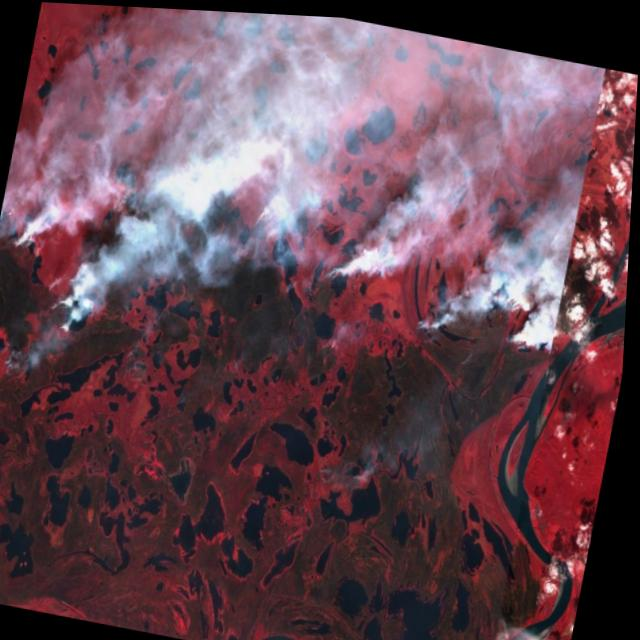fire: (0, 105, 584, 493)
